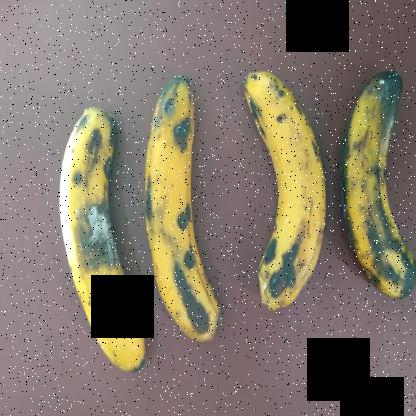overripe: (126, 68, 234, 356), (236, 63, 324, 317)
rotten: (46, 86, 149, 388), (336, 21, 416, 317)
